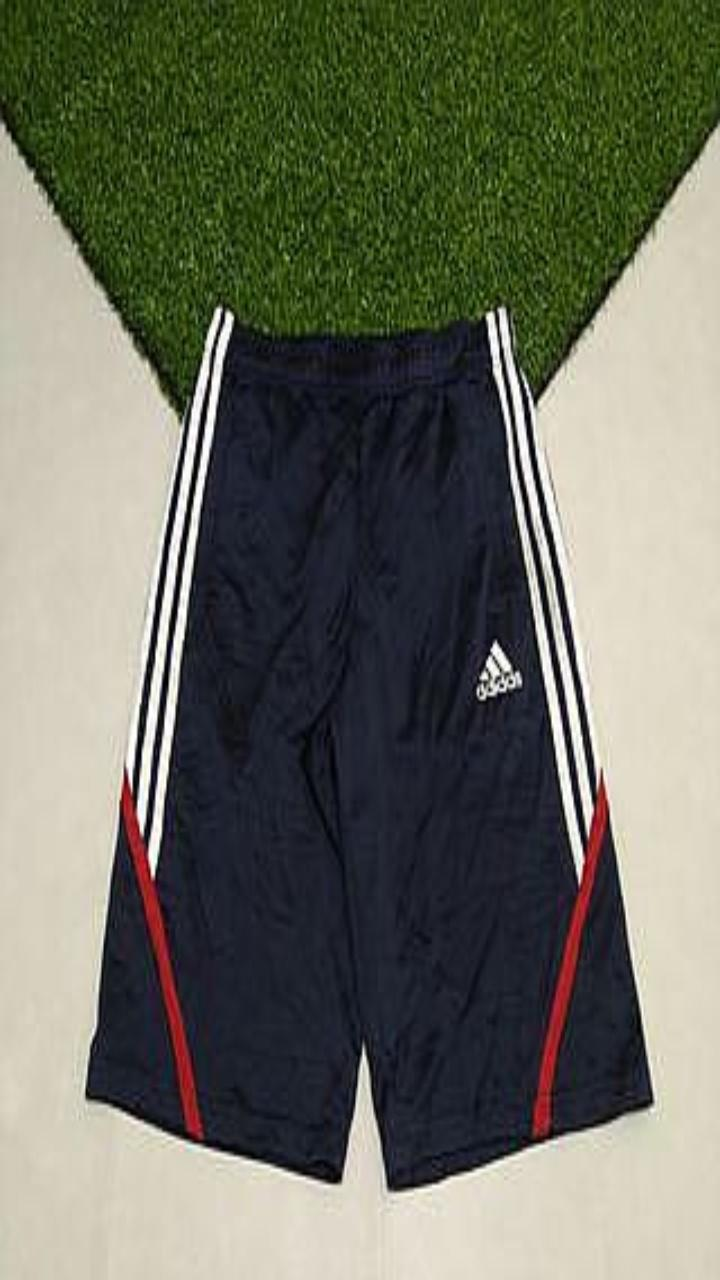Shorts: (85, 305, 652, 1188)
